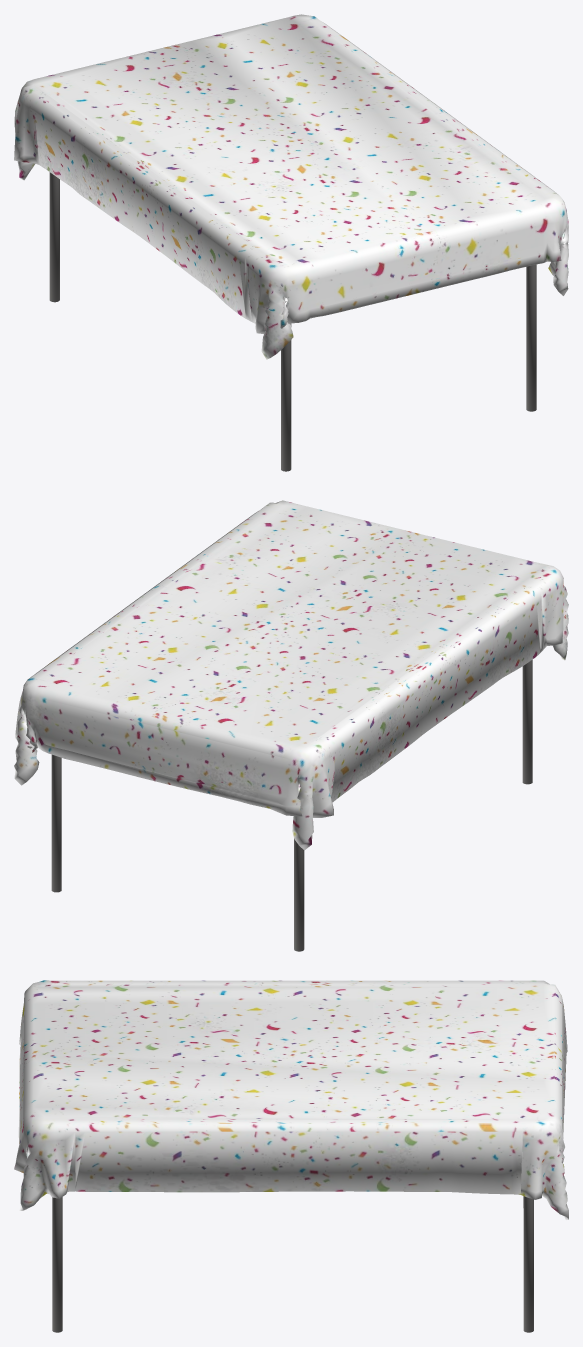
File: table.glb
3 views of the same model, one above another, from view 1: azimuth 30°, elevation 25°; view 2: azimuth 150°, elevation 25°; view 3: azimuth 270°, elevation 25° (orthographic). The views are drawn at different scales.
Visible parts, largest first — view 1: FNAF Table_FNAF Table Mat_0; view 2: FNAF Table_FNAF Table Mat_0; view 3: FNAF Table_FNAF Table Mat_0.
Part boxes in pixels (x1=…): FNAF Table_FNAF Table Mat_0: x1=14, y1=14, x2=568, y2=471; FNAF Table_FNAF Table Mat_0: x1=14, y1=500, x2=568, y2=951; FNAF Table_FNAF Table Mat_0: x1=14, y1=980, x2=568, y2=1332.
Bounding box in the file's own units: 1.5 × 0.95 × 2.2.
Materials: 1 (1 with a texture image).
